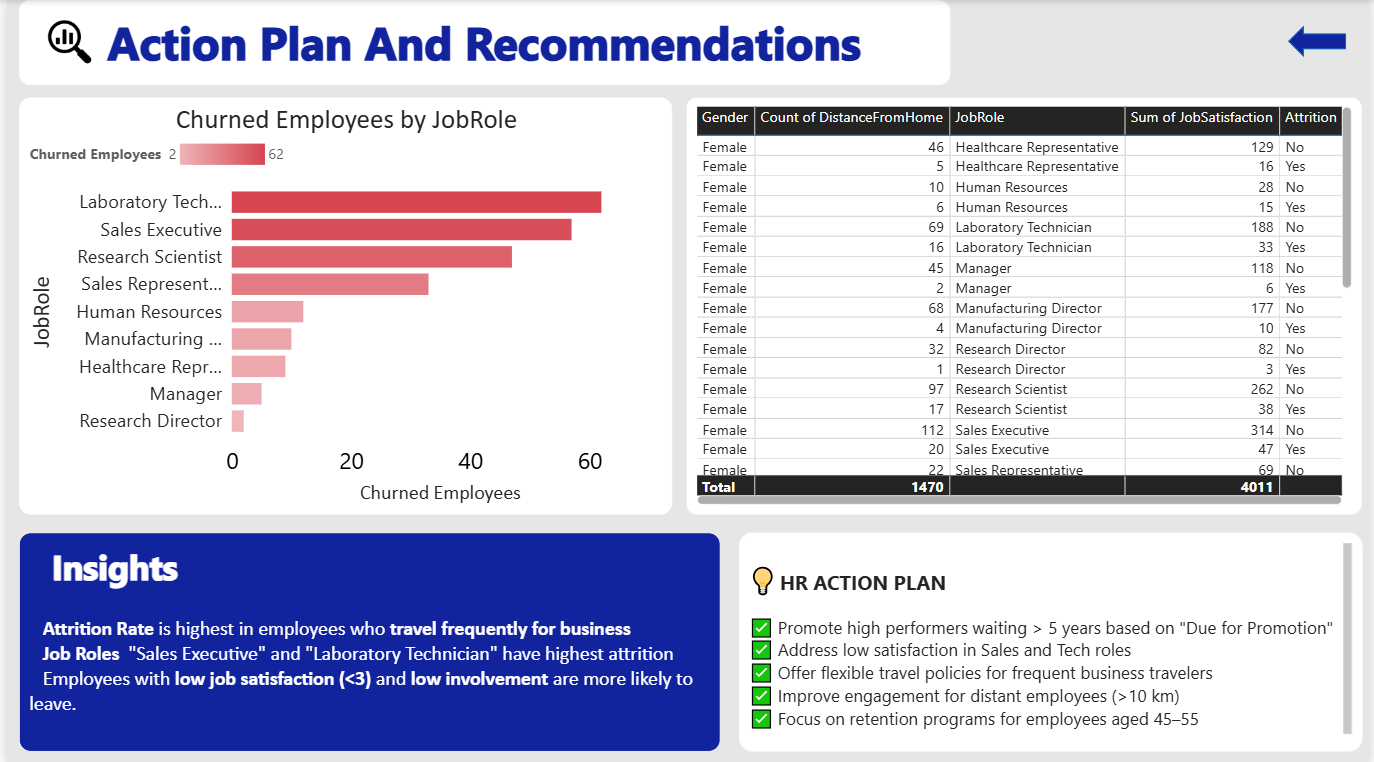

What the dashboard file says about the page in this screenshot:
{"tool":"powerbi","page":{"name":"Action","canvas":[1280,720],"ordinal":2},"visuals":[{"type":"textbox","box":[10.9,0,875.3,79.7],"z":0},{"type":"textbox","box":[10.9,500.2,659.6,206.3],"z":1000},{"type":"clusteredBarChart","fields":{"Y":["HR Analytics Data.Churned Employees"],"Category":["HR Analytics Data.JobRole"]},"box":[10.9,92.2,614.3,392.3],"z":2000},{"type":"tableEx","fields":{"Values":["HR Analytics Data.Gender","CountNonNull(HR Analytics Data.DistanceFromHome)","HR Analytics Data.JobRole","Sum(HR Analytics Data.JobSatisfaction)","HR Analytics Data.Attrition"]},"box":[639.3,92.2,634.6,392.3],"z":3000},{"type":"image","box":[28.1,12.5,61,53.1],"z":4000},{"type":"textbox","box":[687.7,500.2,586.1,206.3],"z":5000},{"type":"shape","box":[1203.5,23.4,54.7,29.7],"z":6000}]}

Visuals, with their boxes in screenshot pixels (x1, y1, x2, y2), scaled from the page's 1280x720 canvas onto the 1374x762 screenshot:
textbox: region(12, 0, 951, 84)
textbox: region(12, 529, 720, 748)
clusteredBarChart - HR Analytics Data.Churned Employees x HR Analytics Data.JobRole: region(12, 98, 671, 513)
tableEx - HR Analytics Data.Gender x CountNonNull(HR Analytics Data.DistanceFromHome): region(686, 98, 1367, 513)
image: region(30, 13, 96, 69)
textbox: region(738, 529, 1367, 748)
shape: region(1292, 25, 1351, 56)
